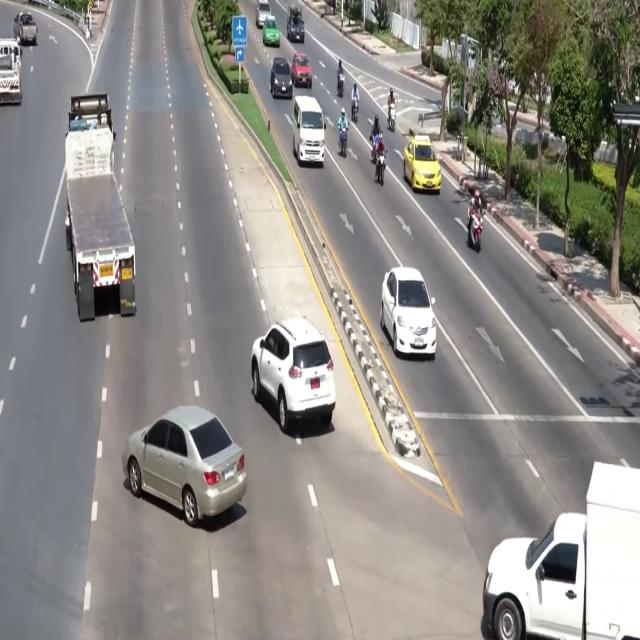car: (122, 406, 247, 527), (251, 318, 335, 433), (380, 267, 436, 358), (403, 129, 441, 193), (270, 57, 293, 98), (287, 1, 304, 43), (292, 53, 311, 88), (262, 15, 280, 47), (255, 0, 271, 28)
scooty: (468, 209, 482, 252), (376, 151, 386, 185), (339, 127, 347, 157), (370, 134, 378, 163), (388, 103, 395, 131), (351, 100, 358, 122), (338, 73, 344, 98)
truck: (483, 463, 639, 639), (65, 94, 136, 321), (0, 39, 21, 103), (14, 12, 37, 45)
